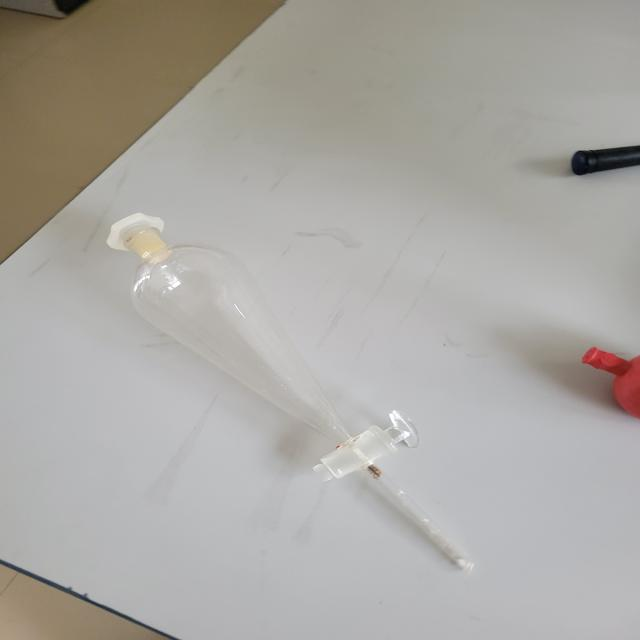Separating_Funnel: (64, 173, 497, 611)
